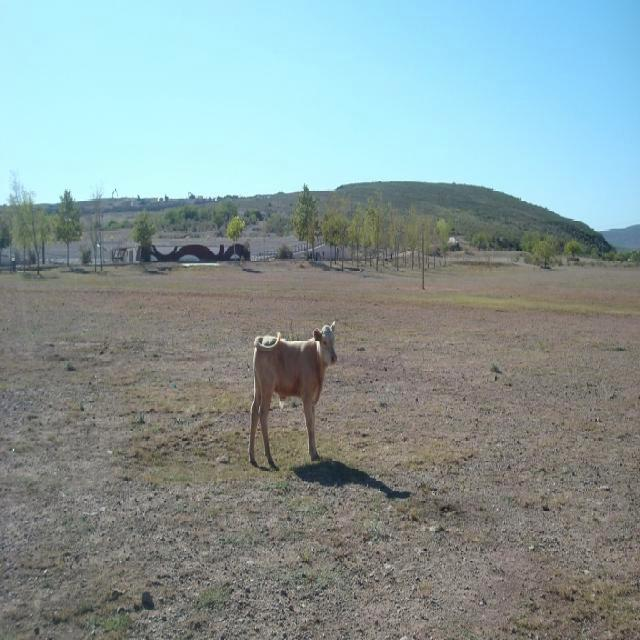cow: (249, 322, 338, 469)
